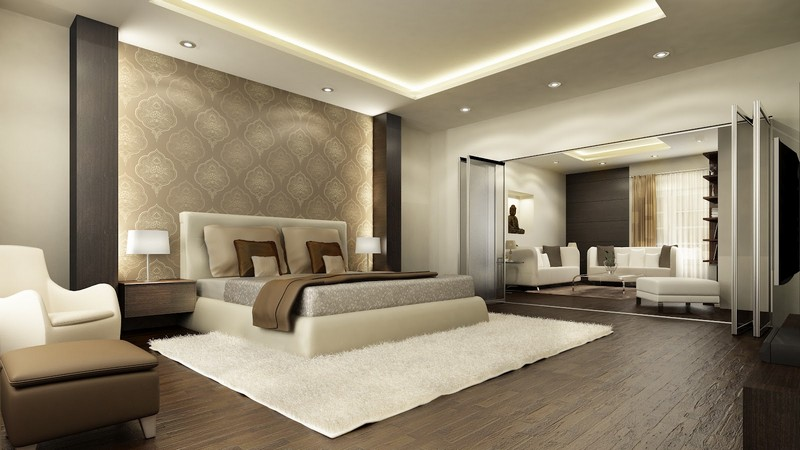bed: (179, 210, 489, 351)
lamp: (125, 224, 173, 284), (354, 233, 384, 275)
sofa: (3, 241, 127, 353)
stool: (5, 342, 164, 439)
